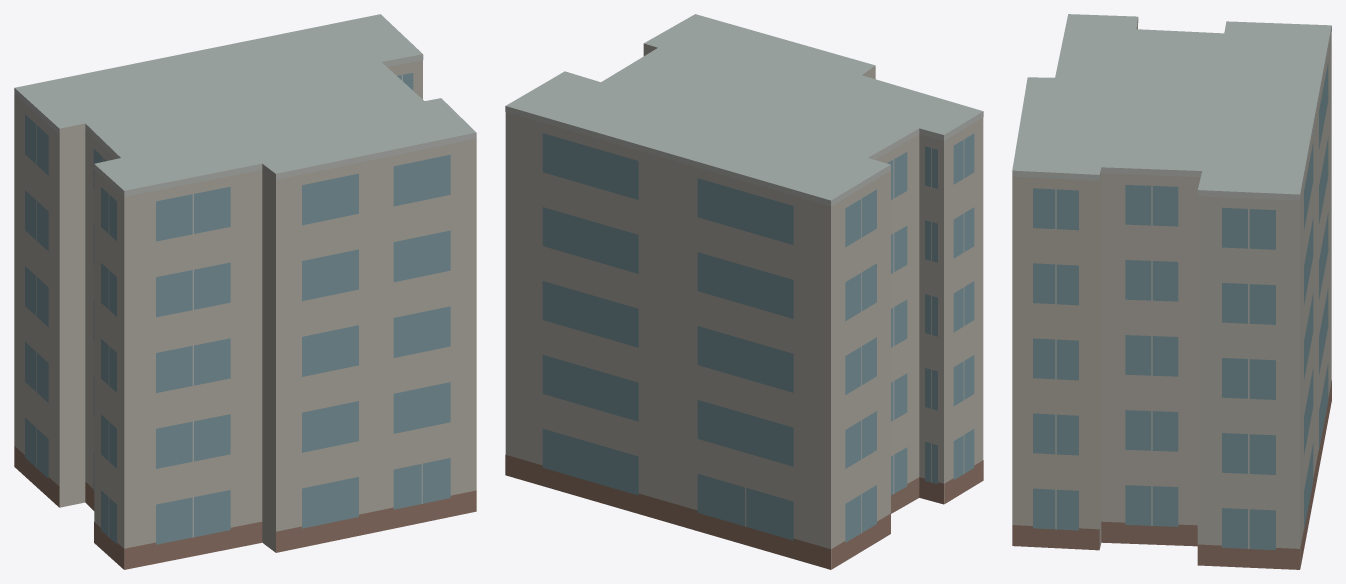
Rendered from survey-upis-32921123.glb.
The picture shows the model from 3 angles, left to right: view 1: azimuth 30°, elevation 25°; view 2: azimuth 150°, elevation 25°; view 3: azimuth 270°, elevation 25°; orthographic projection. The views are drawn at different scales.
Parts seen in each view (by area): view 1: survey-upis-32921123.tmp; view 2: survey-upis-32921123.tmp; view 3: survey-upis-32921123.tmp.
Part boxes in pixels (x1,y1,x2,y2): survey-upis-32921123.tmp: (14, 14, 476, 569); survey-upis-32921123.tmp: (505, 14, 983, 569); survey-upis-32921123.tmp: (1012, 14, 1331, 569).
Size of the model in its own units: 15.74 by 15.25 by 11.78.
